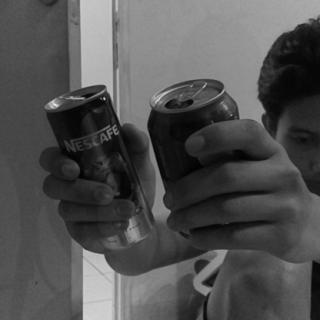alumunium_can: (46, 82, 158, 252), (147, 79, 247, 237)
